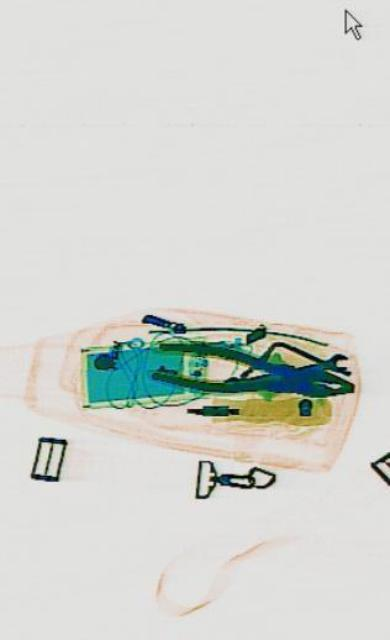Pliers: (148, 334, 353, 406)
Wrench: (219, 346, 346, 399)
